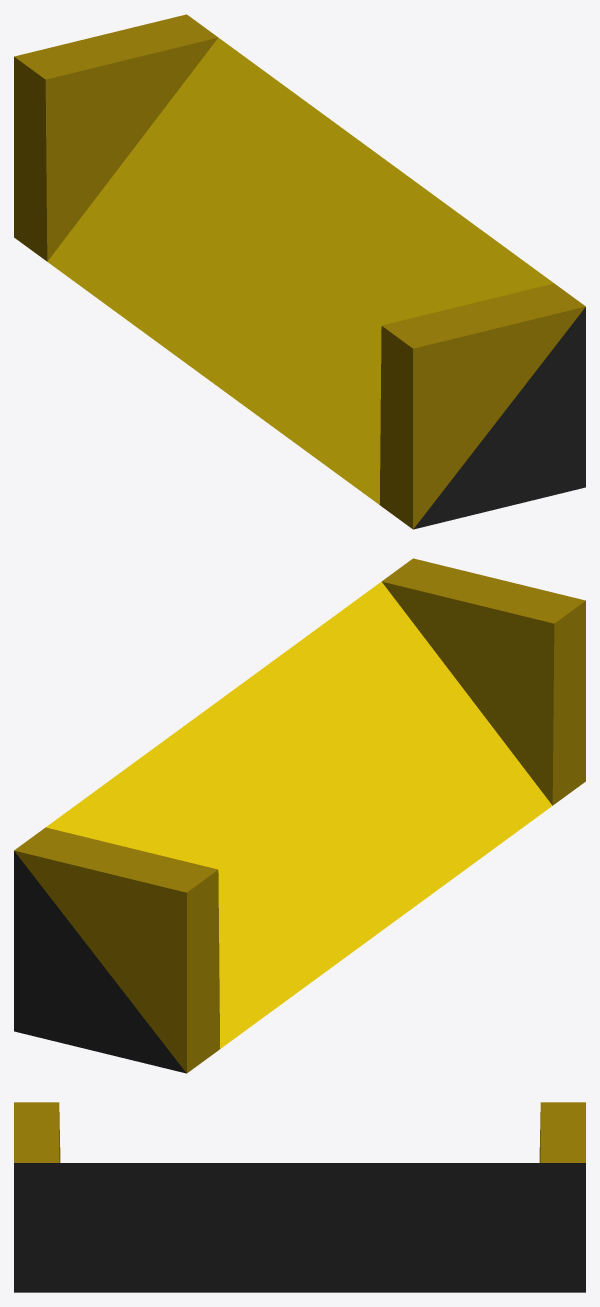
Rendered from SlopeBase.fbx.
3 renders of one model, top to bottom at view 1: azimuth 30°, elevation 25°; view 2: azimuth 150°, elevation 25°; view 3: azimuth 270°, elevation 25°, orthographic. The views are drawn at different scales.
Visible parts, largest first — view 1: Cube.001; view 2: Cube.001; view 3: Cube.001.
Part boxes in pixels (x1,y1,x2,y2): Cube.001: (14, 14, 585, 529); Cube.001: (14, 558, 585, 1073); Cube.001: (14, 1102, 585, 1292).
Bounding box in the file's own units: 200 × 200 × 800.
